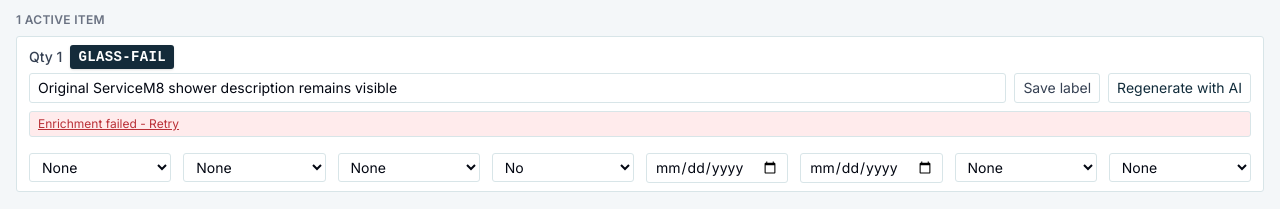
Test: WorkOrderItemsSummary › lets a Manage user retry a safely failed enrichment job
Click the button "Enrichment failed - Retry". click: (108, 124)
box: [38,116,179,132]
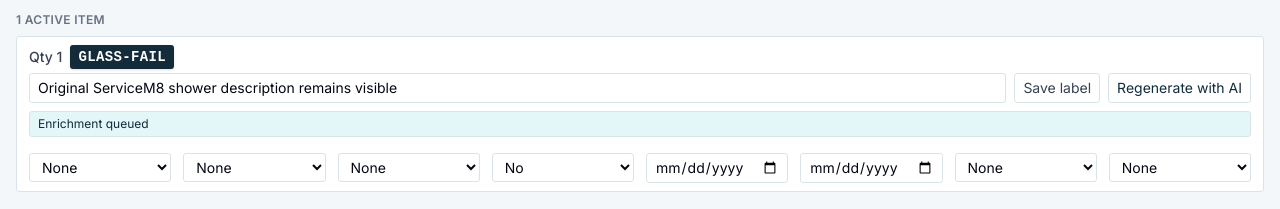
Expected: the text "Enrichment queued" is shown, [29,111,1251,137]
